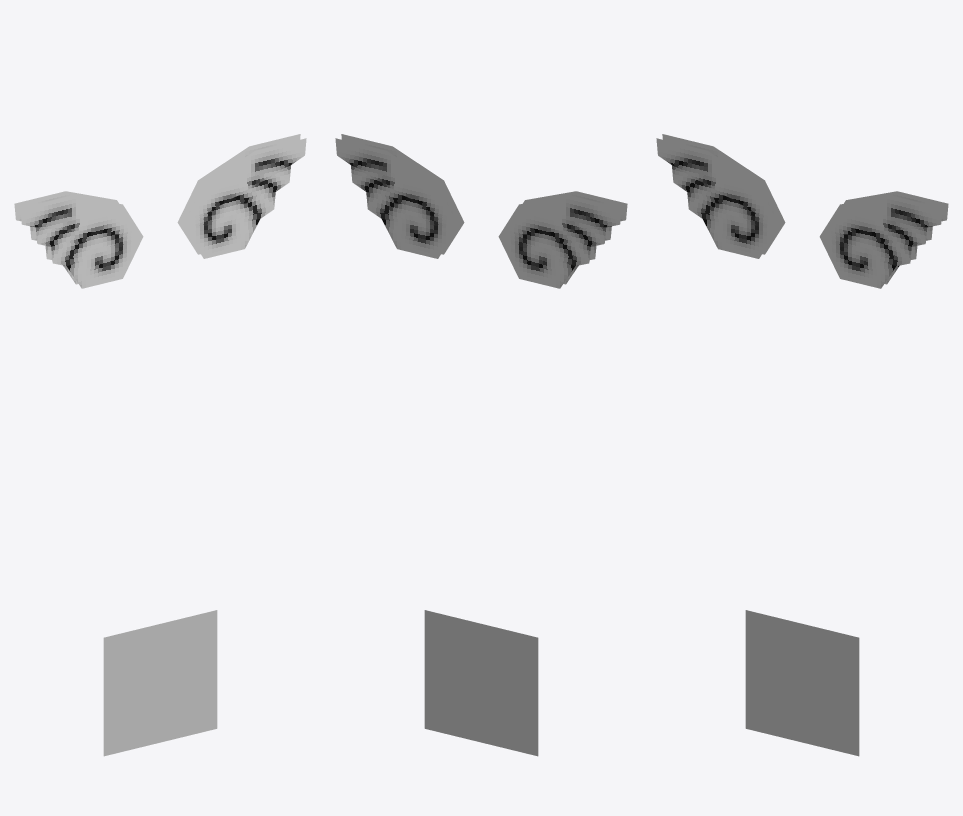
The model's file is magicalGirlWand.dae.
3 views of the same model, side by side, from view 1: azimuth 30°, elevation 25°; view 2: azimuth 150°, elevation 25°; view 3: azimuth 330°, elevation 25° (orthographic).
Visible parts, largest first — view 1: Cylinder, Plane-noimp; view 2: Cylinder, Plane-noimp; view 3: Cylinder, Plane-noimp.
Boxes of the visible parts, x1,y1,x2,y2 form: Cylinder: (14, 134, 306, 288); Plane-noimp: (103, 610, 217, 756); Cylinder: (335, 134, 627, 288); Plane-noimp: (424, 610, 538, 756); Cylinder: (656, 134, 948, 288); Plane-noimp: (745, 610, 859, 756).
Size of the model in its own units: 0.2774 by 0.0443 by 0.722.
2 materials, 1 textured.
